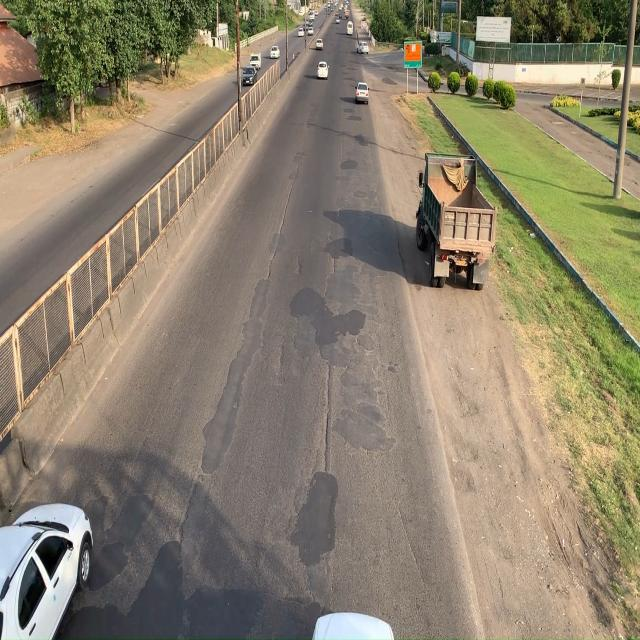Truck: (414, 148, 499, 290)
cars: (0, 499, 95, 640)
